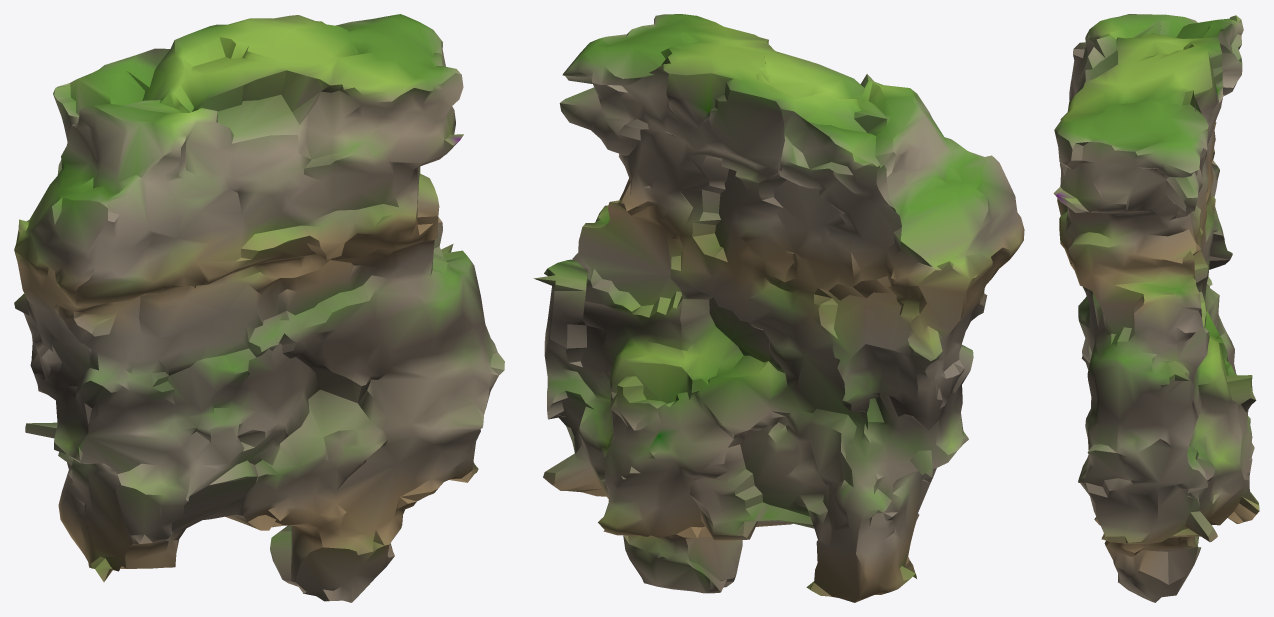
The model's file is glade_cliff_wall_c.glb.
The picture shows the model from 3 angles, left to right: view 1: azimuth 30°, elevation 25°; view 2: azimuth 150°, elevation 25°; view 3: azimuth 270°, elevation 25°; orthographic projection. The views are drawn at different scales.
Visible parts, largest first — view 1: glade_cliff_wall_c; view 2: glade_cliff_wall_c; view 3: glade_cliff_wall_c.
Boxes of the visible parts, x1,y1,x2,y2 form: glade_cliff_wall_c: [14, 14, 504, 602]; glade_cliff_wall_c: [533, 14, 1024, 602]; glade_cliff_wall_c: [1053, 14, 1259, 602].
Bounding box in the file's own units: 18.37 × 22.05 × 8.13.
